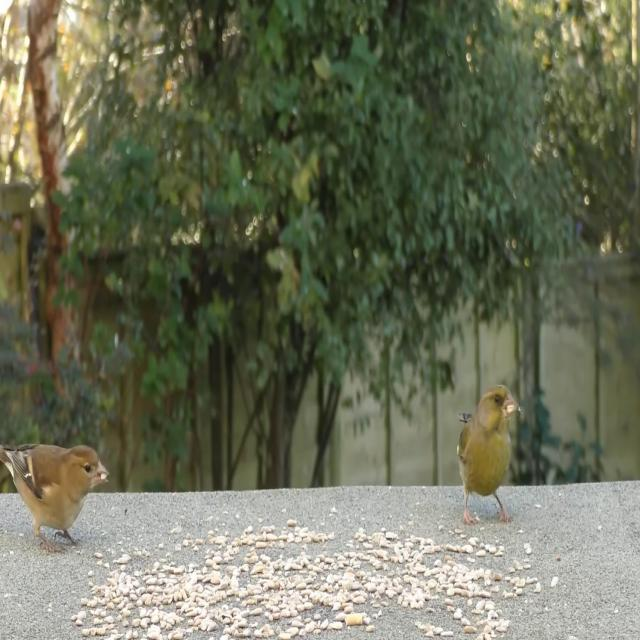beak: (94, 454, 110, 492), (503, 388, 520, 422)
bird: (0, 435, 109, 557), (454, 372, 520, 526)
